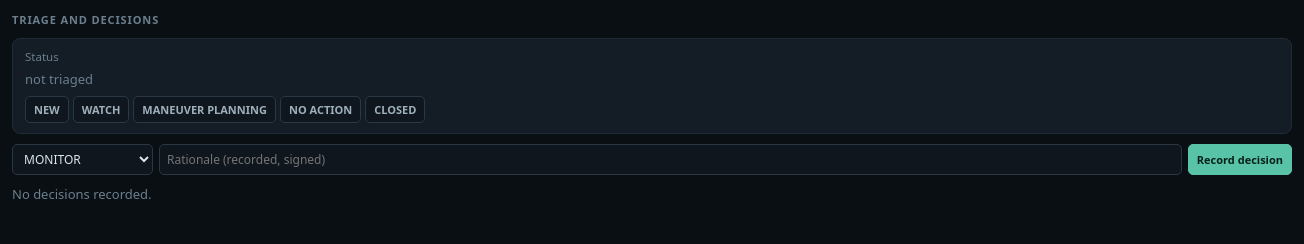
Test case: OpsPanel - the decision log › keeps the operator's rationale when the node refuses the decision
Type "miss distance grows over three updates" into the field labelled "Rationale". click: [670, 160]
box: [159, 144, 1182, 176]
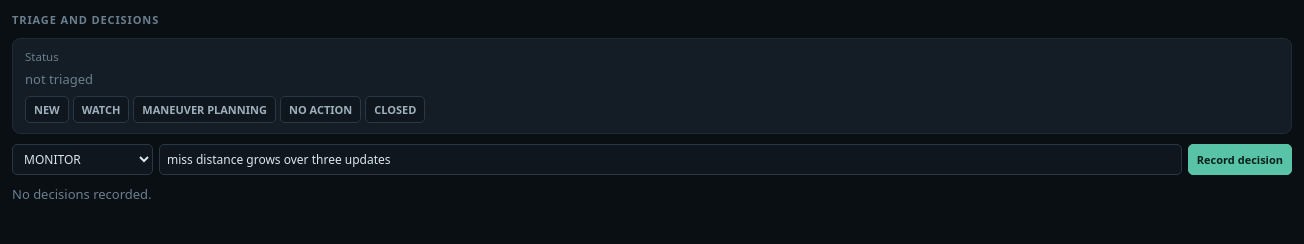
Click the button "Record decision". click: [1240, 160]
box: [1188, 144, 1292, 176]
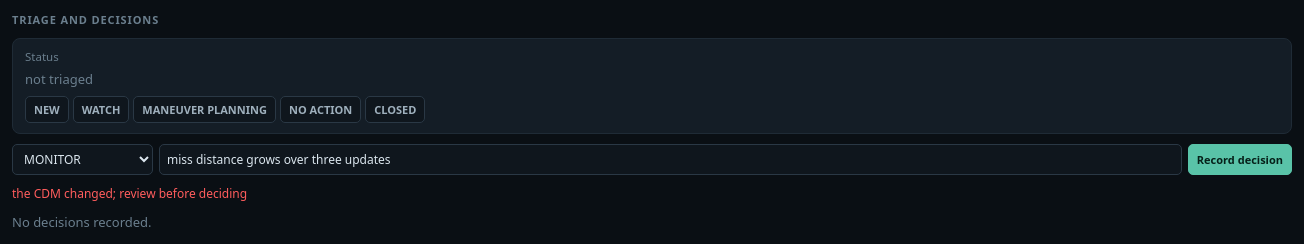
Check: the text "the CDM changed; review before deciding" is shown, box [12, 186, 247, 202]
